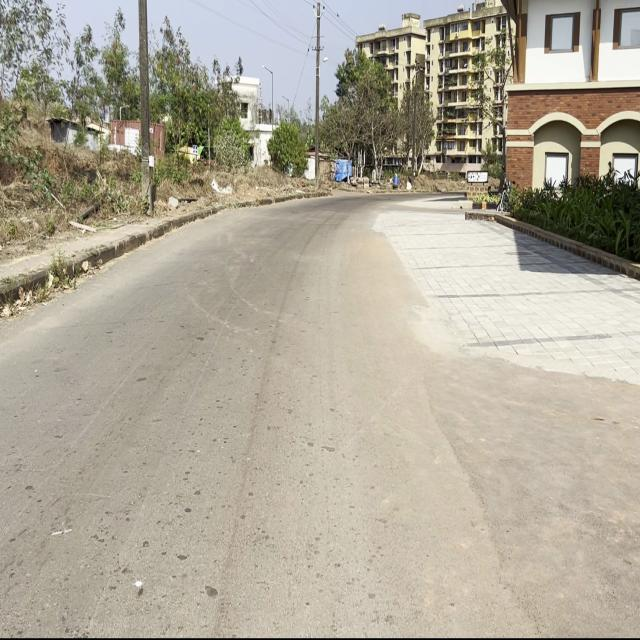Road: (1, 188, 533, 636)
